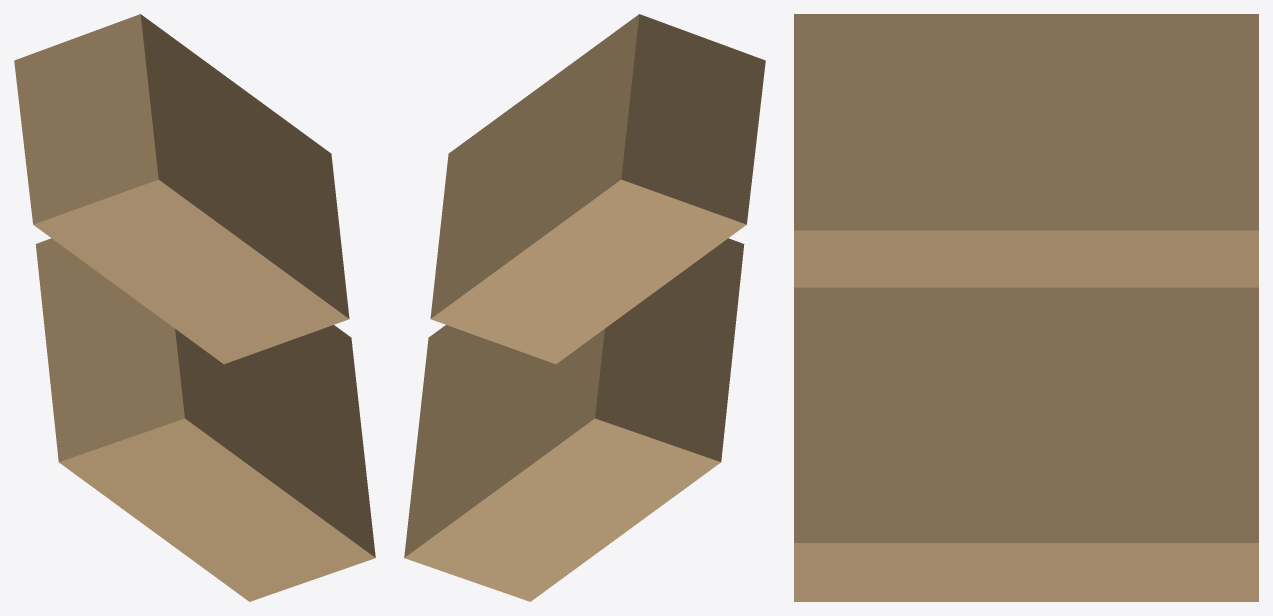
3 views of the same model, side by side, from view 1: azimuth 30°, elevation 25°; view 2: azimuth 150°, elevation 25°; view 3: azimuth 270°, elevation 25° (orthographic). The views are drawn at different scales.
Parts seen in each view (by area): view 1: 0_0_3_2_0_1_0_1_2_2; view 2: 0_0_3_2_0_1_0_1_2_2; view 3: 0_0_3_2_0_1_0_1_2_2.
Boxes of the visible parts, box(x1,y1,x2,y2) form: 0_0_3_2_0_1_0_1_2_2: box(14, 14, 375, 601); 0_0_3_2_0_1_0_1_2_2: box(404, 14, 765, 601); 0_0_3_2_0_1_0_1_2_2: box(794, 14, 1258, 601).
Size of the model in its own units: 10.85 by 26.01 by 21.
